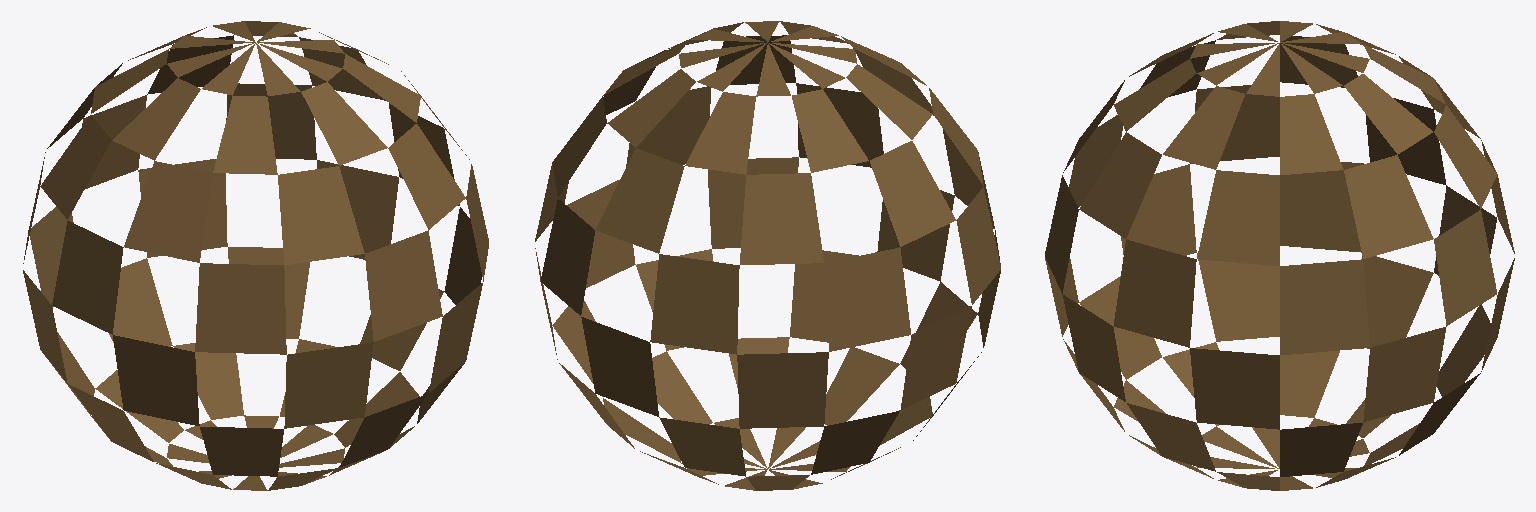
The picture shows the model from 3 angles: view 1: azimuth 30°, elevation 25°; view 2: azimuth 150°, elevation 25°; view 3: azimuth 270°, elevation 25°; orthographic projection.
Visible parts, largest first — view 1: 球_球.001; view 2: 球_球.001; view 3: 球_球.001.
Part boxes in pixels (x1,y1,x2,y2): 球_球.001: (23, 21, 488, 490); 球_球.001: (535, 21, 1000, 490); 球_球.001: (1045, 21, 1514, 490).
Bounding box in the file's own units: 2 × 2 × 2.
Materials: 1 (1 with a texture image).